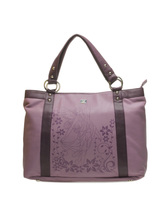bag: (20, 33, 153, 182)
